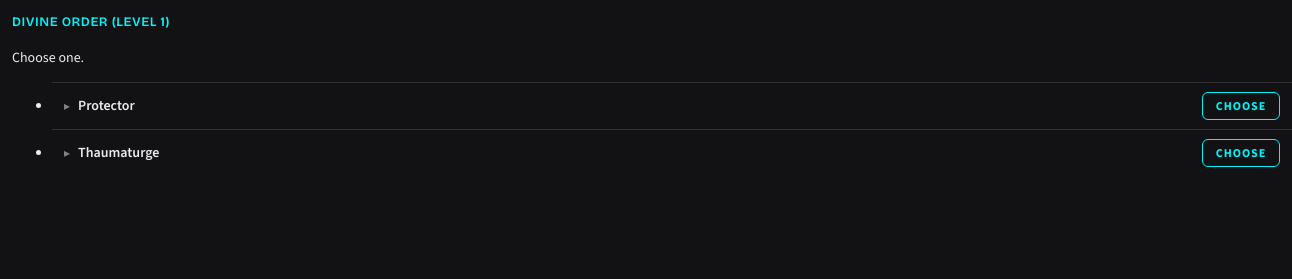
ClassFeatureChoicePicker › offers each option with its own text (D13)
Expected: the text "Protector" is shown, [78, 95, 135, 116]
Expected: the text "You gain Heavy armor training." is not shown
What coordinates should you click on to do the following:
click the button with aria-label "Protector text"
I would click on:
 (106, 106)
Its box is [64, 95, 1194, 116].
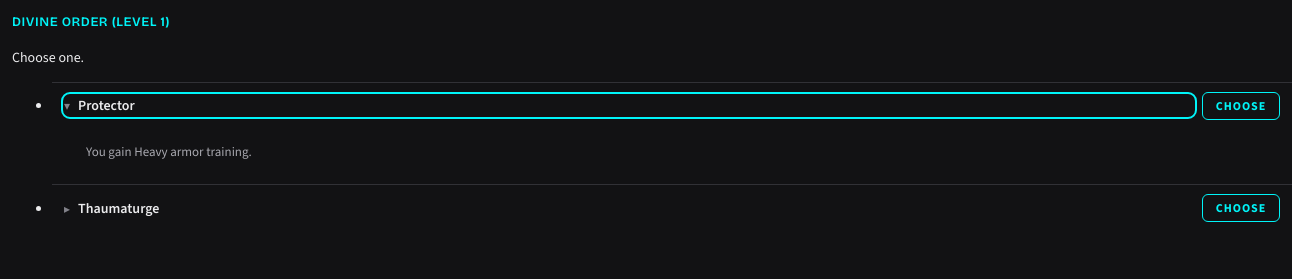
What coordinates should you click on to do the following:
click the button with aria-label "Thaumaturge text"
I would click on:
 (119, 208)
Its box is [64, 198, 1194, 218].
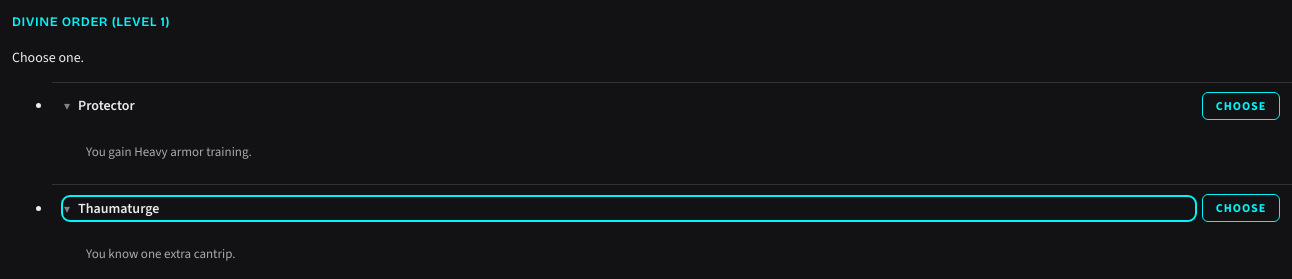
Expected: the text "You gain Heavy armor training." is shown, [86, 142, 252, 160]
Expected: the text "You know one extra cantrip." is shown, [86, 245, 236, 262]
